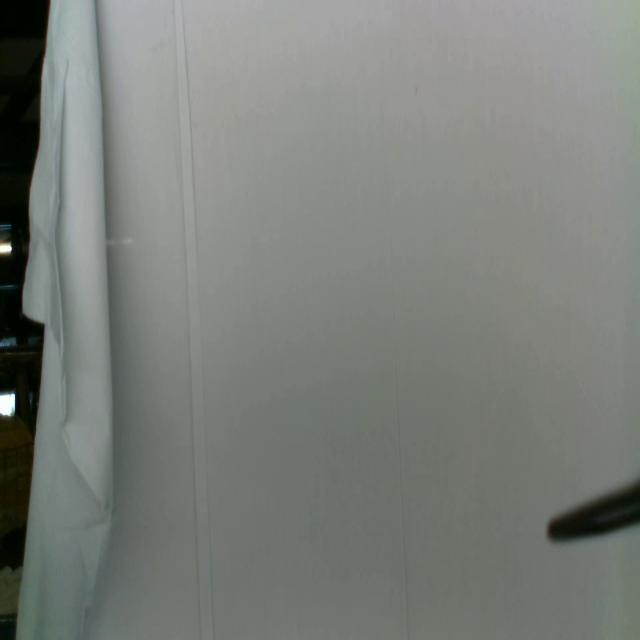crease: (173, 0, 214, 639), (388, 228, 410, 626)
